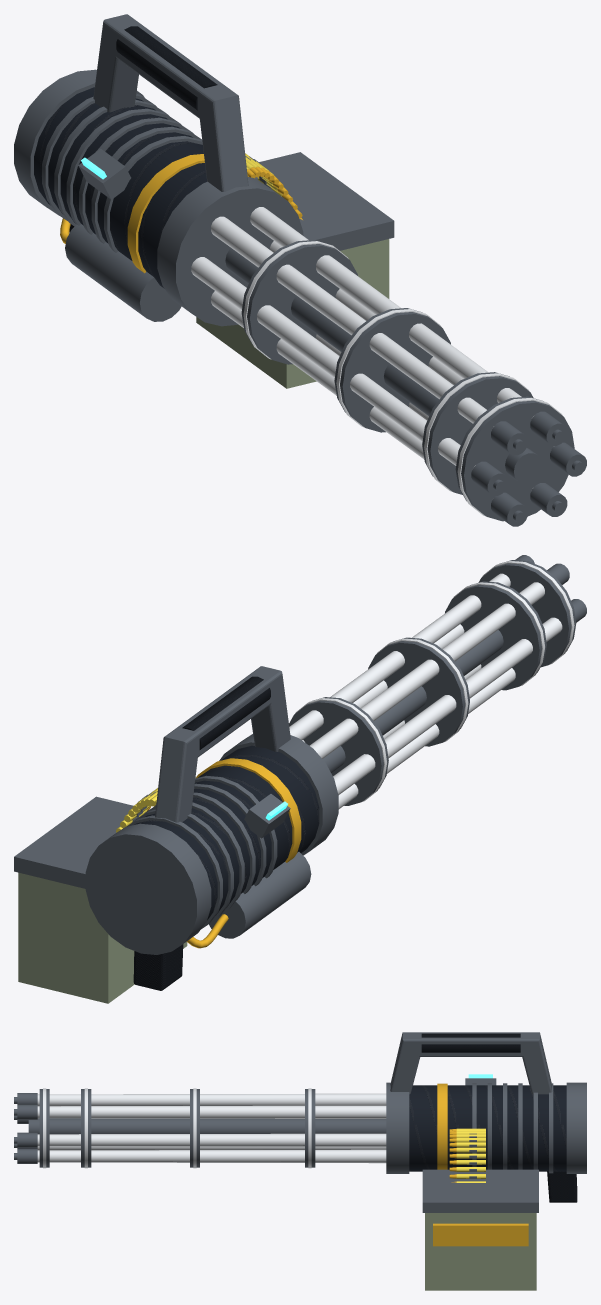
The model's file is minigun_6barrel.glb.
3 views of the same model, one above another, from view 1: azimuth 30°, elevation 25°; view 2: azimuth 150°, elevation 25°; view 3: azimuth 270°, elevation 25° (orthographic). The views are drawn at different scales.
Parts seen in each view (by area): view 1: Minigun_Body_metalDark, Minigun_Barrels_metalDark, Minigun_Barrels_metalChrome, Minigun_Body_metalPrimary, Minigun_Ammo_metalDark, Minigun_Ammo_chassis, Minigun_Body_polymer, Minigun_Body_accent; view 2: Minigun_Body_metalDark, Minigun_Barrels_metalChrome, Minigun_Barrels_metalDark, Minigun_Ammo_chassis, Minigun_Body_metalPrimary, Minigun_Ammo_metalDark, Minigun_Body_polymer, Minigun_Body_accent; view 3: Minigun_Barrels_metalChrome, Minigun_Body_metalDark, Minigun_Body_metalPrimary, Minigun_Barrels_metalDark, Minigun_Ammo_chassis, Minigun_Ammo_metalDark, Minigun_Ammo_accent, Minigun_Body_polymer, Minigun_Ammo_brass, Minigun_Body_accent.
Boxes of the visible parts, x1,y1,x2,y2 form: Minigun_Body_metalDark: [14, 14, 303, 326]; Minigun_Barrels_metalDark: [225, 240, 586, 526]; Minigun_Barrels_metalChrome: [191, 207, 562, 516]; Minigun_Body_metalPrimary: [34, 87, 206, 288]; Minigun_Ammo_metalDark: [245, 152, 394, 250]; Minigun_Ammo_chassis: [196, 239, 389, 388]; Minigun_Body_polymer: [69, 26, 217, 232]; Minigun_Body_accent: [60, 154, 248, 273]; Minigun_Body_metalDark: [85, 666, 338, 954]; Minigun_Barrels_metalChrome: [289, 561, 574, 809]; Minigun_Barrels_metalDark: [289, 555, 586, 805]; Minigun_Ammo_chassis: [18, 872, 187, 1003]; Minigun_Body_metalPrimary: [134, 745, 319, 920]; Minigun_Ammo_metalDark: [14, 791, 155, 888]; Minigun_Body_polymer: [133, 676, 270, 990]; Minigun_Body_accent: [186, 758, 301, 948]; Minigun_Barrels_metalChrome: [37, 1088, 386, 1168]; Minigun_Body_metalDark: [386, 1032, 586, 1173]; Minigun_Body_metalPrimary: [409, 1085, 566, 1171]; Minigun_Barrels_metalDark: [14, 1089, 386, 1167]; Minigun_Ammo_chassis: [425, 1213, 536, 1290]; Minigun_Ammo_metalDark: [422, 1133, 538, 1212]; Minigun_Ammo_accent: [433, 1129, 528, 1246]; Minigun_Body_polymer: [421, 1033, 577, 1202]; Minigun_Ammo_brass: [456, 1128, 485, 1182]; Minigun_Body_accent: [437, 1083, 447, 1169].
Bounding box in the file's own units: 0.2904 × 0.3475 × 0.896.
Materials: 8 (2 with a texture image).
